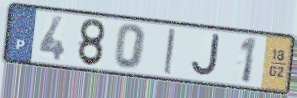0: (113, 22, 147, 72)
1: (236, 36, 259, 85)
4: (37, 15, 67, 63)
8: (76, 17, 107, 68)
I: (162, 27, 177, 77)
J: (189, 33, 221, 80)
